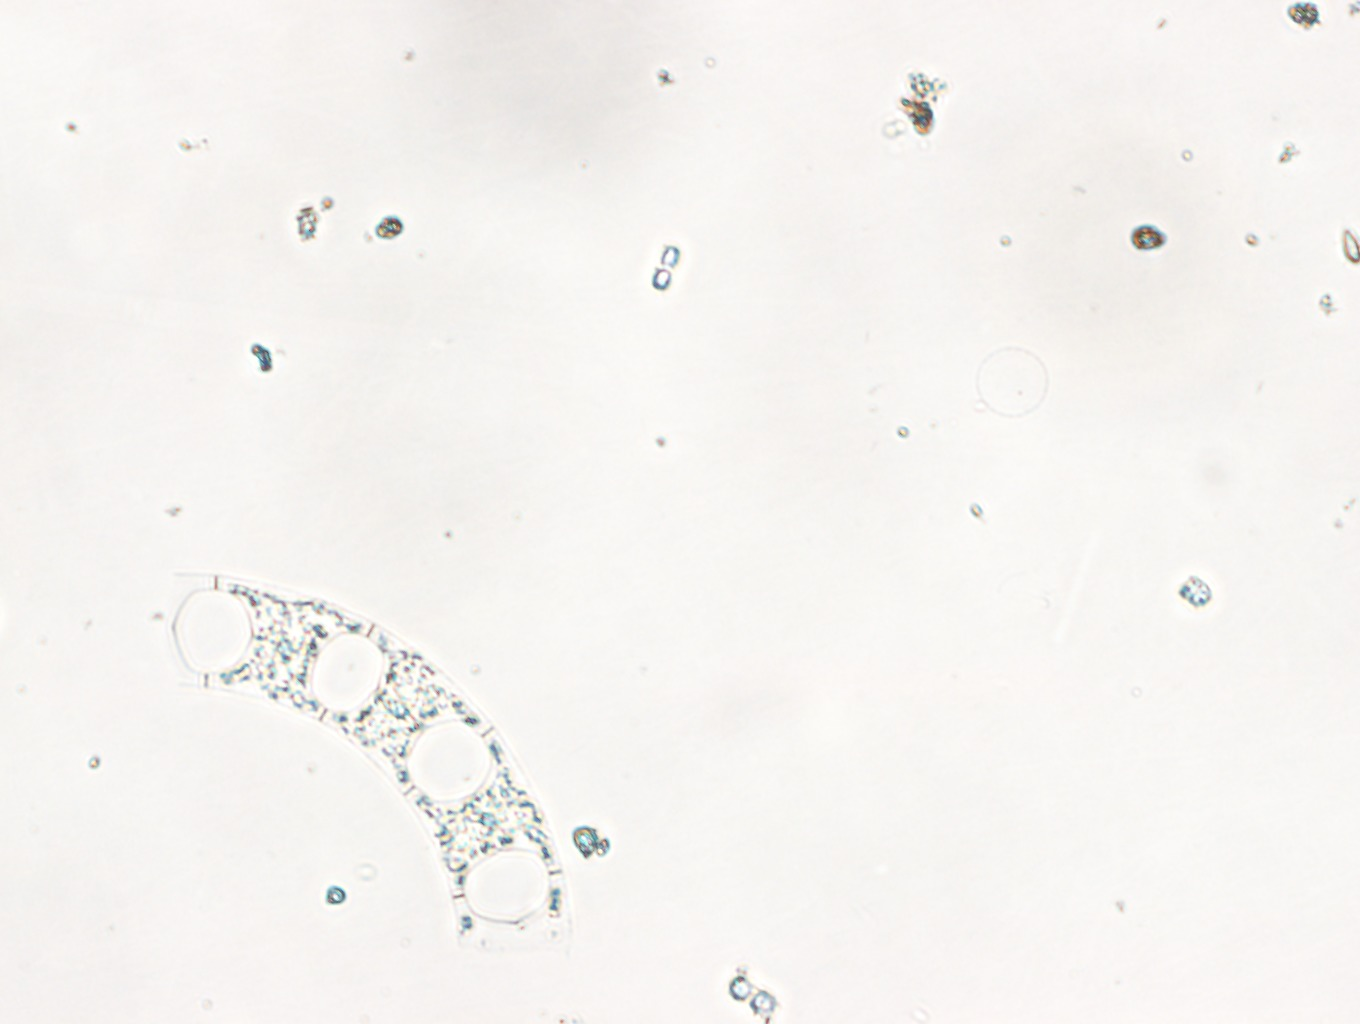eucampia: (169, 573, 567, 953)
